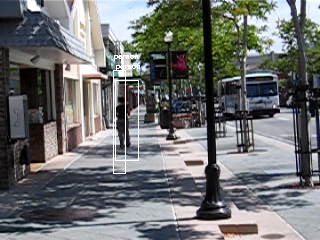person: (115, 97, 134, 150), (114, 97, 133, 150), (116, 97, 135, 150), (115, 96, 134, 149), (115, 98, 134, 151)
target_negative: (231, 93, 279, 215), (6, 40, 50, 127), (89, 95, 129, 164), (118, 187, 208, 216), (302, 12, 318, 124), (133, 171, 207, 192)
